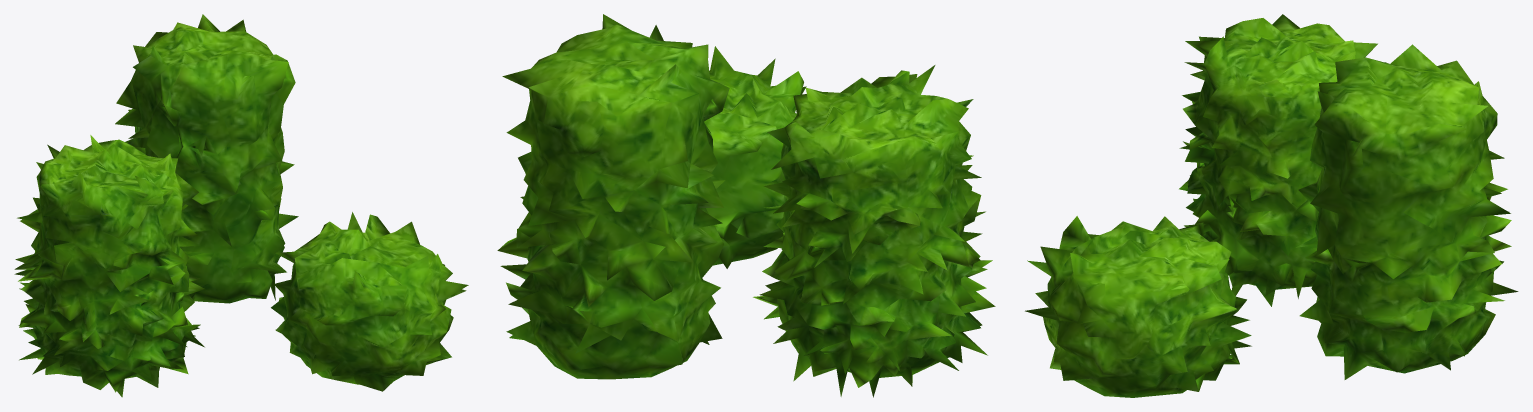
The model's file is hedge_bush.glb.
The picture shows the model from 3 angles, left to right: view 1: azimuth 30°, elevation 25°; view 2: azimuth 150°, elevation 25°; view 3: azimuth 270°, elevation 25°; orthographic projection. The views are drawn at different scales.
Visible parts, largest first — view 1: tripo_node_df118114-ca79-41f9-ad56-4ae78bce3ca5; view 2: tripo_node_df118114-ca79-41f9-ad56-4ae78bce3ca5; view 3: tripo_node_df118114-ca79-41f9-ad56-4ae78bce3ca5.
Boxes of the visible parts, x1=… form: tripo_node_df118114-ca79-41f9-ad56-4ae78bce3ca5: x1=14, y1=14, x2=468, y2=397; tripo_node_df118114-ca79-41f9-ad56-4ae78bce3ca5: x1=497, y1=14, x2=995, y2=397; tripo_node_df118114-ca79-41f9-ad56-4ae78bce3ca5: x1=1025, y1=14, x2=1518, y2=397.
Bounding box in the file's own units: 2.82 × 1.92 × 3.
1 material, 1 textured.
